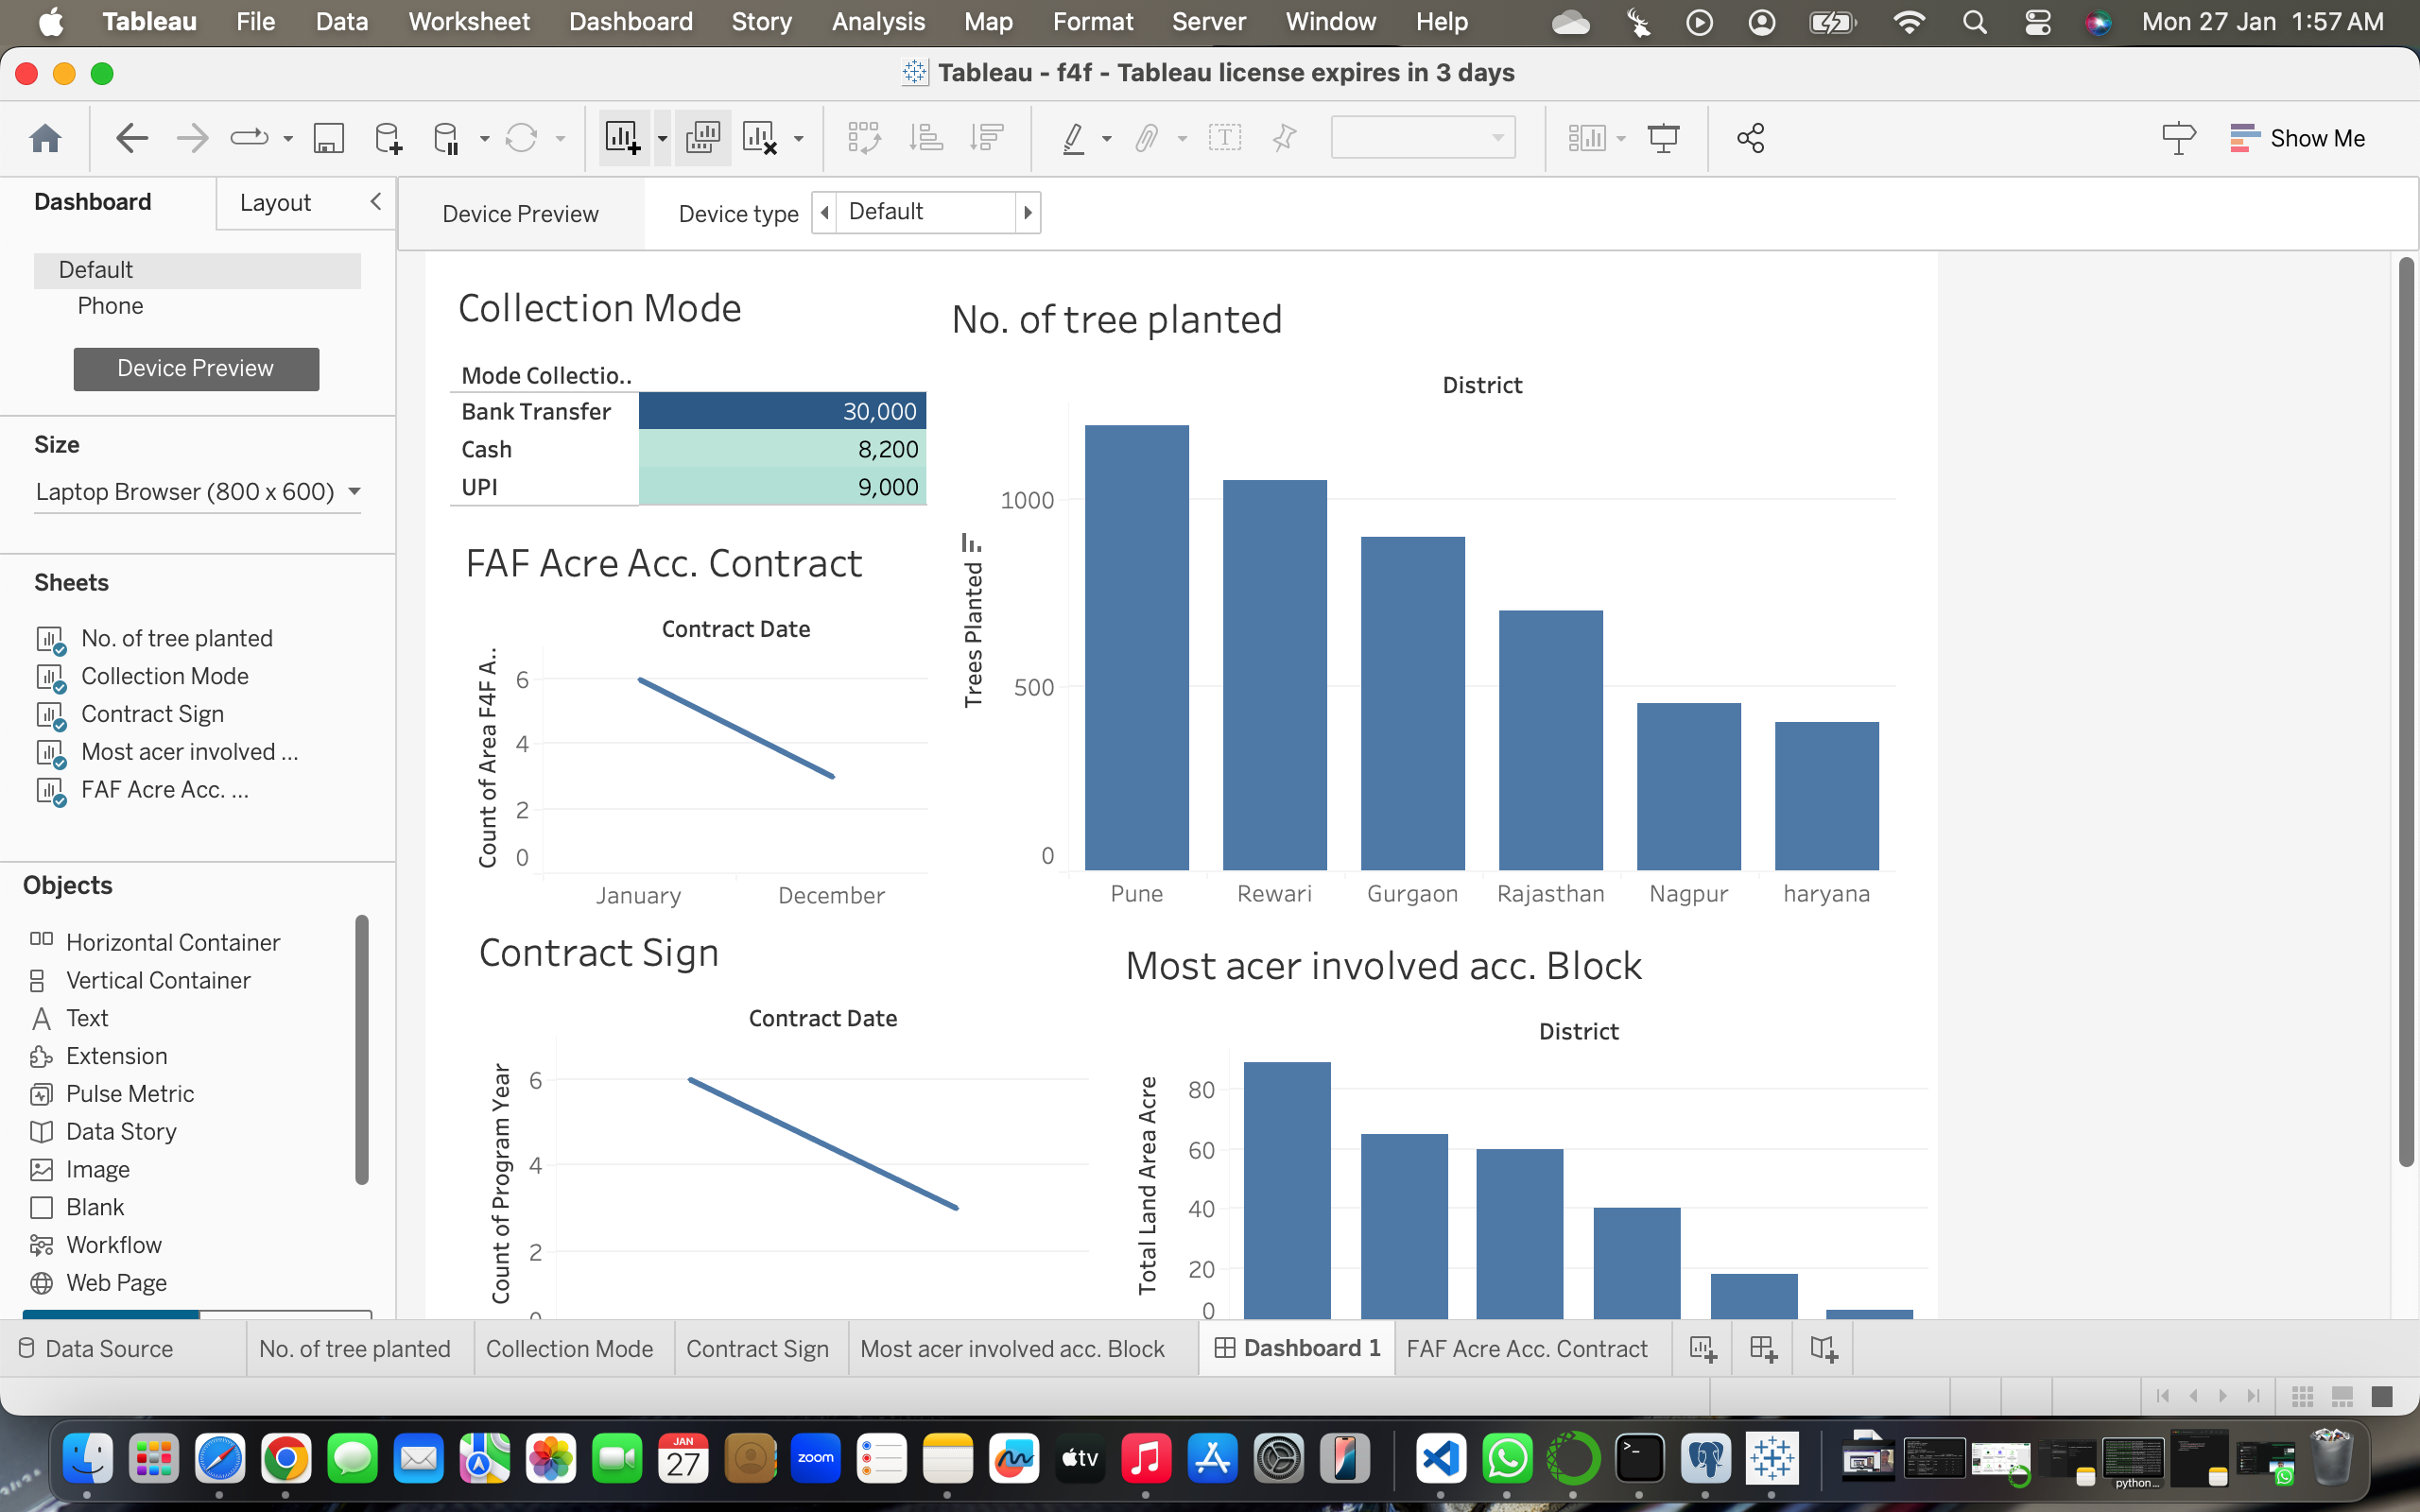

What the dashboard file says about the page in this screenshot:
{"tool":"tableau","page":{"name":"Dashboard 1","canvas":[800,600],"ordinal":0},"visuals":[{"type":"worksheet","title":"Collection Mode","mark":"Square","rows":["mode_collection_cash_upi_banktransfer"],"box":[13,11,253,124]},{"type":"worksheet","title":"No. of tree planted","mark":"Automatic","rows":["trees_planted"],"cols":["district"],"box":[273.6,16.5,504,331.5]},{"type":"worksheet","title":"FAF Acre Acc. Contract","mark":"Automatic","rows":["area_f4f_acre"],"cols":["contract_date"],"box":[17,146,249,204]},{"type":"worksheet","title":"Contract Sign","mark":"Automatic","rows":["program_year"],"cols":["contract_date"],"box":[24,351.8,327.2,243]},{"type":"worksheet","title":"Most acer involved acc. Block ","mark":"Automatic","rows":["total_land_area_acre"],"cols":["district"],"box":[366.4,358.5,428.8,231]}]}

Visuals, with their boxes on the page's 800x600 design canvas (x1, y1, x2, y2). These are canvas units, not pixel positions in the 2420x1512 screenshot, which may show the page scaled, cropped or inside an application window:
"Collection Mode" worksheet (Square marks): left=13, top=11, right=266, bottom=135
"No. of tree planted" worksheet: left=274, top=16, right=778, bottom=348
"FAF Acre Acc. Contract" worksheet: left=17, top=146, right=266, bottom=350
"Contract Sign" worksheet: left=24, top=352, right=351, bottom=595
"Most acer involved acc. Block " worksheet: left=366, top=358, right=795, bottom=590
